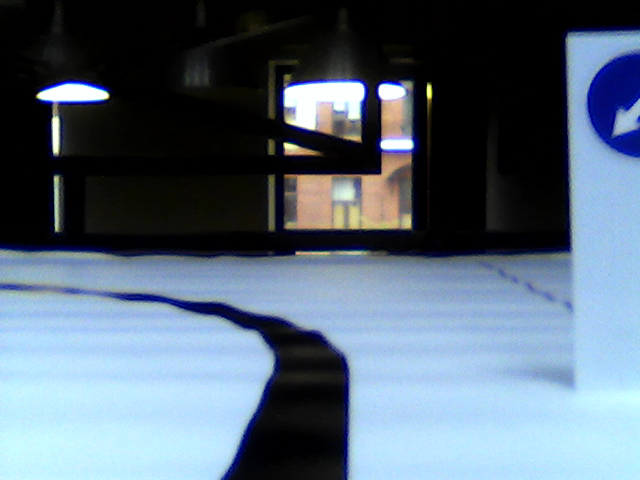prep: (583, 44, 640, 163)
